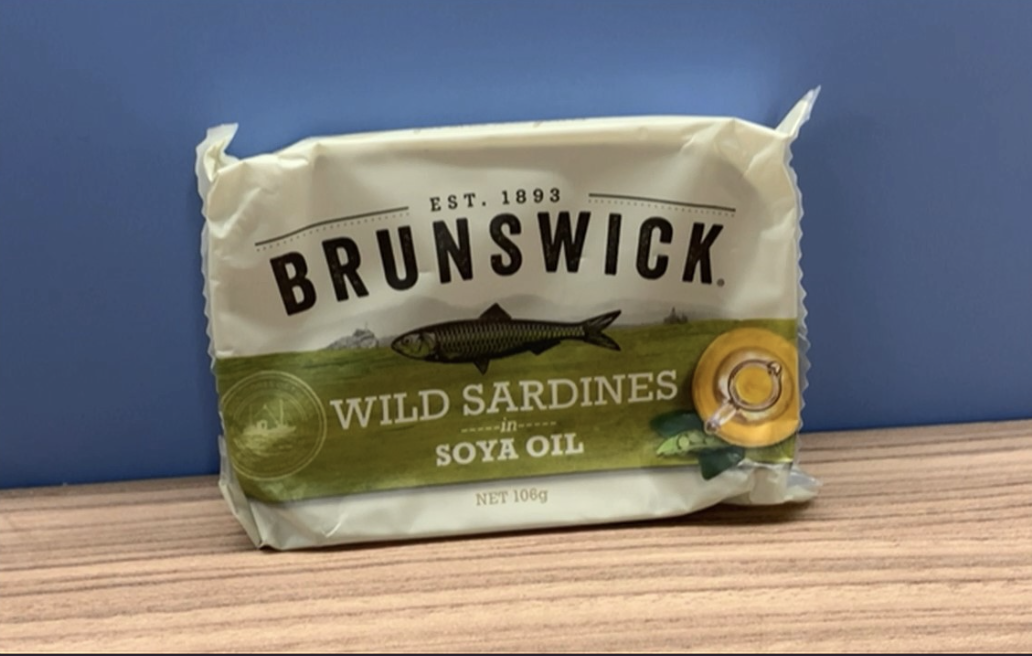sardines_150g: (228, 176, 794, 507)
